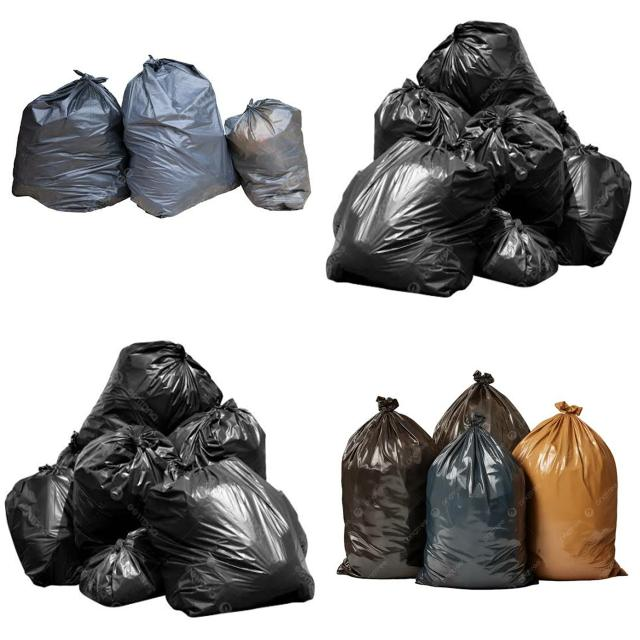Single-layer Plastic: (144, 458, 314, 616), (326, 138, 495, 296), (416, 414, 536, 589), (512, 401, 620, 580), (121, 56, 240, 218), (338, 396, 438, 579), (418, 21, 568, 132), (12, 70, 130, 211), (76, 341, 222, 448), (72, 425, 180, 552), (459, 105, 565, 234), (225, 99, 310, 210), (5, 465, 82, 586), (556, 144, 631, 266), (168, 399, 266, 479), (432, 371, 530, 451), (374, 79, 470, 158), (79, 528, 164, 606), (475, 208, 558, 286)
